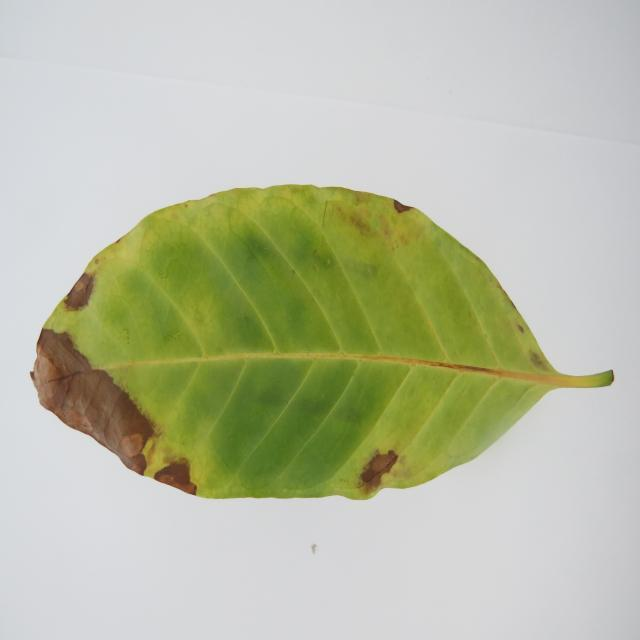DeficienciaNutricional-Potasio: (32, 185, 614, 498)
